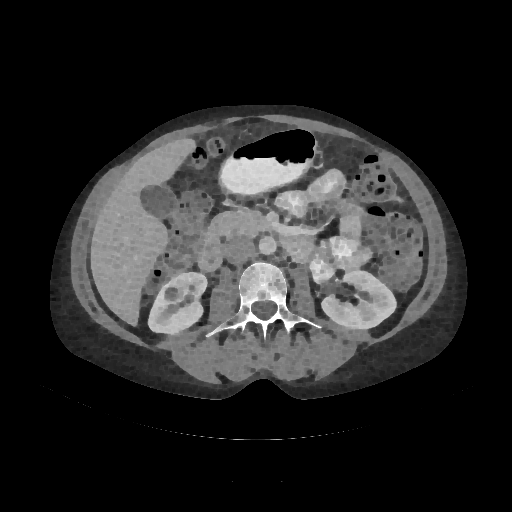Lesion: (163, 286, 181, 303)
